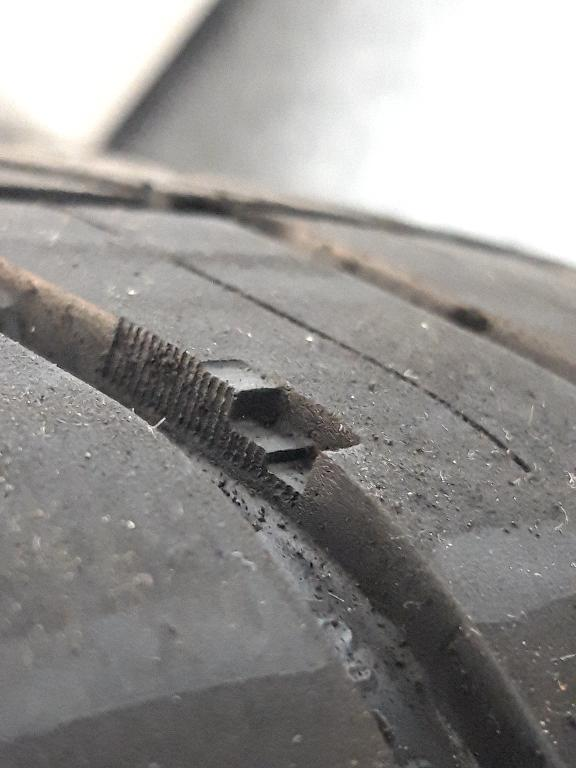temoin:50: (176, 351, 371, 520)
